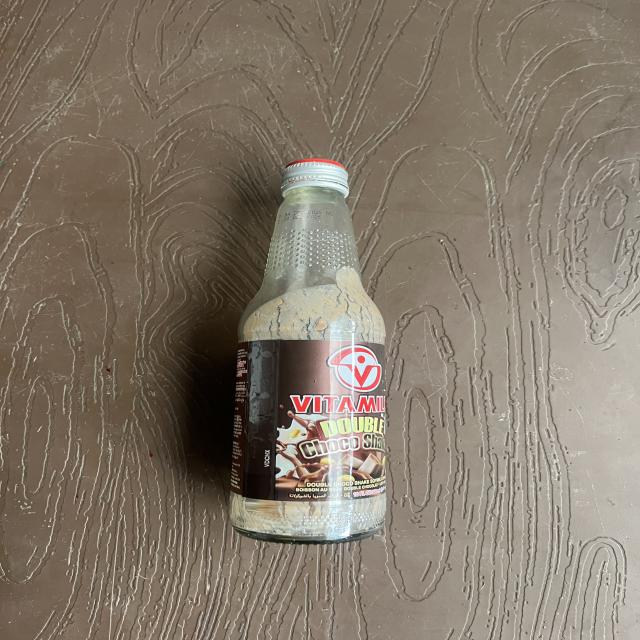REJECT: (220, 165, 446, 546)
